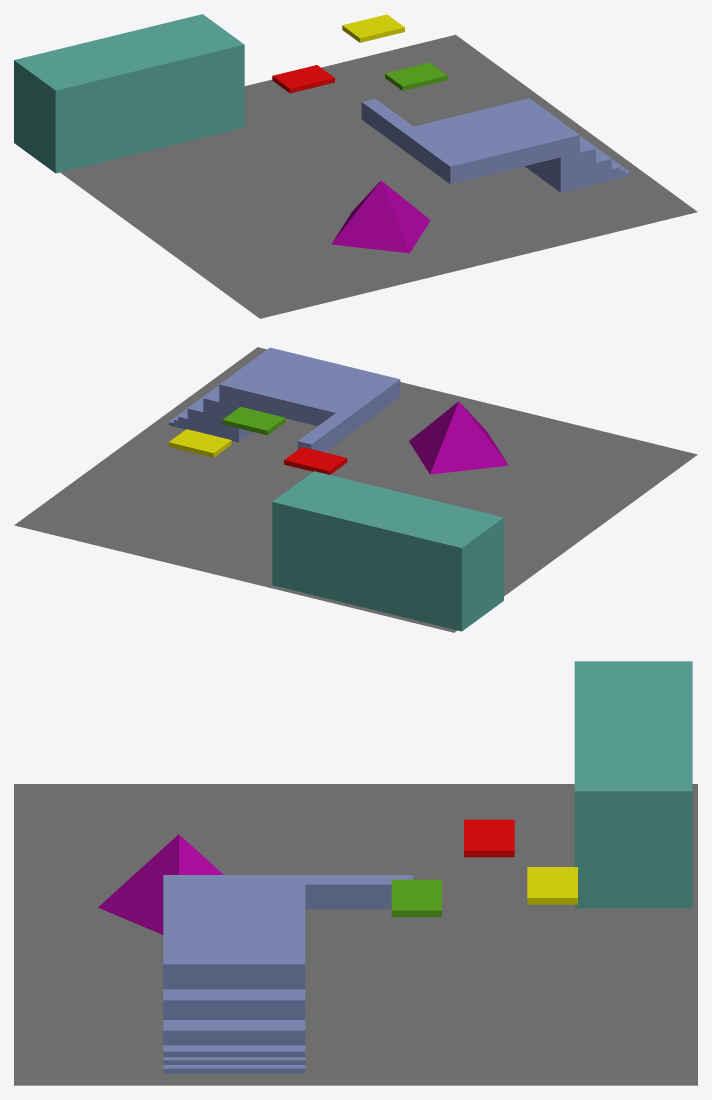
Rendered from uhEnginePlayground.fbx.
3 views of the same model, one above another, from view 1: azimuth 30°, elevation 25°; view 2: azimuth 150°, elevation 25°; view 3: azimuth 270°, elevation 25° (orthographic). The views are drawn at different scales.
Parts seen in each view (by area): view 1: pPlane1, pCube3, pCube1, pPyramid1, pCube2, pasted__pCube2, pasted__pasted__pCube2; view 2: pPlane1, pCube3, pCube1, pPyramid1, pCube2, pasted__pasted__pCube2, pasted__pCube2; view 3: pPlane1, pCube1, pCube3, pPyramid1, pasted__pCube2, pCube2, pasted__pasted__pCube2.
Boxes of the visible parts, left/top/right/bottom form: pPlane1: left=60, top=34, right=697, bottom=318; pCube3: left=14, top=14, right=244, bottom=173; pCube1: left=361, top=98, right=630, bottom=192; pPyramid1: left=331, top=180, right=430, bottom=253; pCube2: left=385, top=62, right=447, bottom=90; pasted__pCube2: left=272, top=65, right=334, bottom=93; pasted__pasted__pCube2: left=342, top=14, right=404, bottom=42; pPlane1: left=14, top=347, right=697, bottom=632; pCube3: left=272, top=471, right=503, bottom=631; pCube1: left=169, top=347, right=400, bottom=452; pPyramid1: left=409, top=401, right=508, bottom=474; pCube2: left=222, top=406, right=285, bottom=435; pasted__pasted__pCube2: left=168, top=429, right=231, bottom=457; pasted__pCube2: left=284, top=447, right=347, bottom=474; pPlane1: left=14, top=784, right=697, bottom=1085; pCube1: left=163, top=875, right=412, bottom=1073; pCube3: left=574, top=661, right=692, bottom=908; pPyramid1: left=98, top=834, right=223, bottom=934; pasted__pCube2: left=464, top=819, right=514, bottom=857; pCube2: left=391, top=879, right=441, bottom=917; pasted__pasted__pCube2: left=527, top=867, right=577, bottom=904.
Size of the model in its own units: 26.63 by 4.83 by 25.19.
